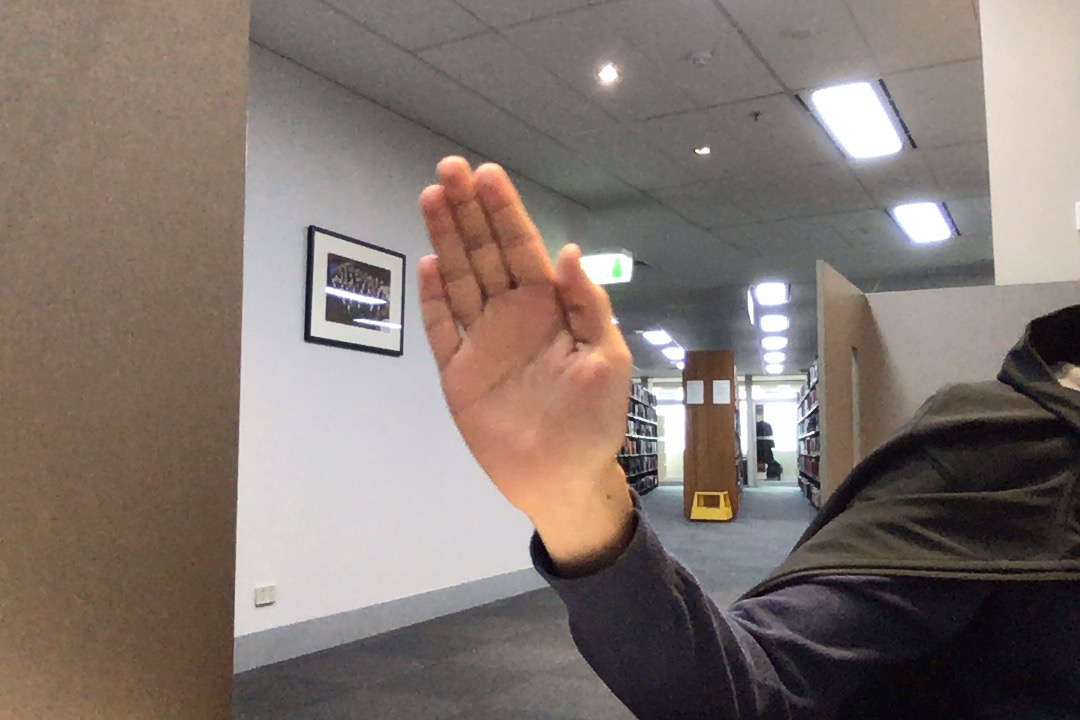palmhand: (401, 148, 648, 519)
